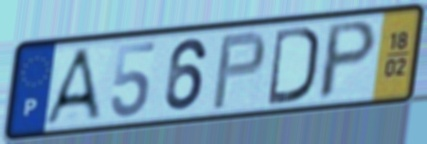5: (108, 39, 158, 120)
6: (163, 36, 209, 114)
A: (41, 45, 104, 128)
D: (266, 23, 320, 107)
P: (315, 17, 381, 103), (209, 28, 268, 113)
